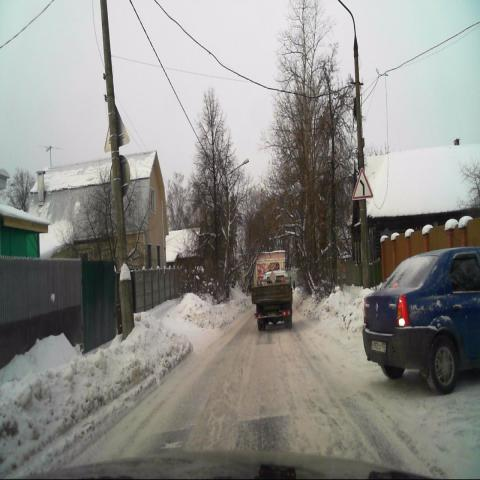1_11: (352, 167, 373, 200)
